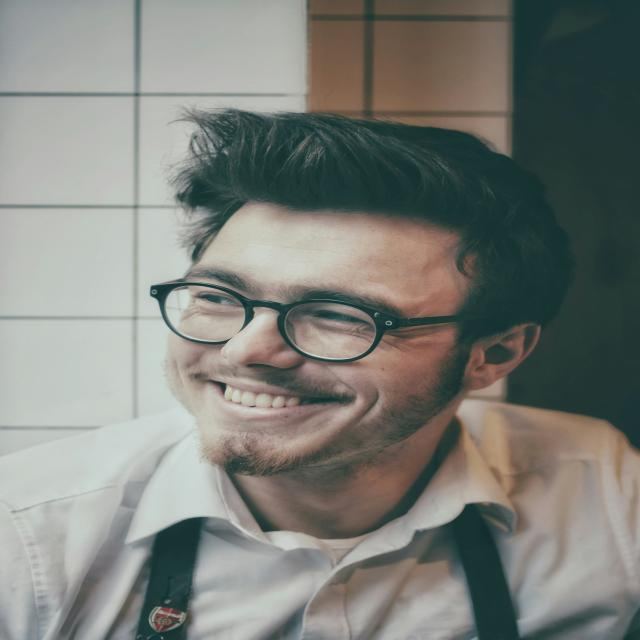human: (0, 90, 640, 640)
